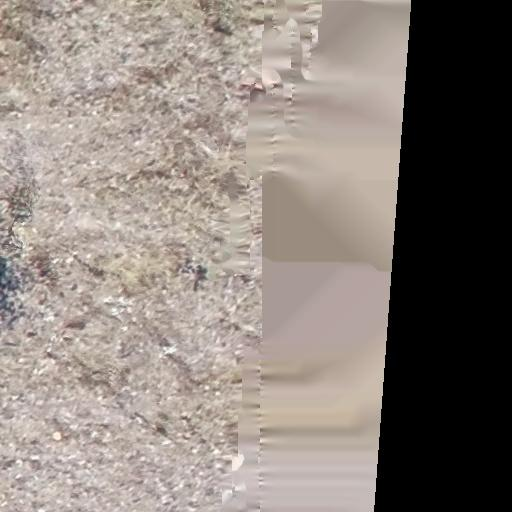stone: (107, 295, 137, 319), (200, 142, 220, 160), (240, 323, 260, 340), (102, 72, 120, 90), (162, 344, 179, 357), (112, 220, 122, 232), (159, 496, 174, 504), (53, 432, 63, 441), (162, 440, 173, 448), (11, 110, 22, 118), (26, 328, 36, 336), (30, 455, 40, 463), (120, 384, 130, 392), (126, 451, 136, 458), (66, 257, 74, 265), (35, 398, 43, 406), (15, 459, 24, 466), (17, 356, 26, 363), (10, 394, 20, 400), (192, 448, 199, 456), (154, 477, 162, 484), (53, 257, 61, 264), (180, 412, 189, 418), (15, 473, 24, 479), (184, 432, 192, 438), (203, 385, 211, 391), (1, 501, 9, 507), (18, 499, 26, 505), (26, 123, 32, 130), (85, 102, 90, 110), (130, 391, 138, 396), (0, 493, 5, 500), (8, 442, 15, 447), (122, 327, 129, 332), (216, 392, 221, 398), (85, 253, 91, 258), (72, 250, 78, 255), (219, 431, 223, 436), (69, 124, 74, 128)
